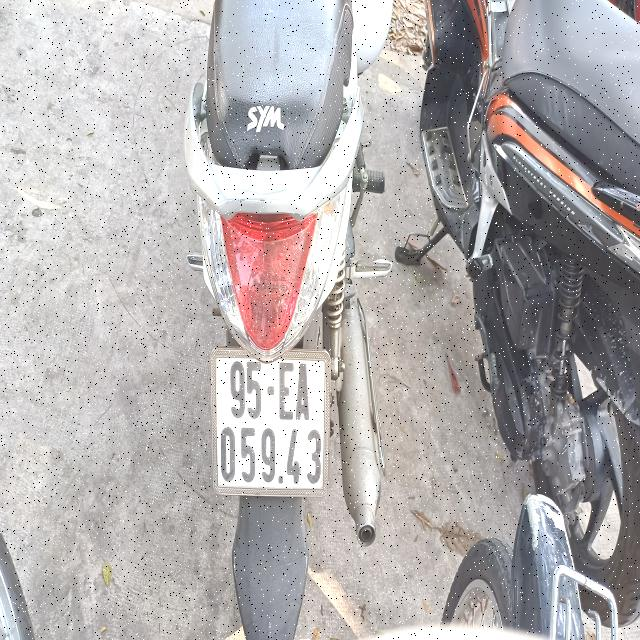0: (221, 426, 236, 482)
3: (306, 428, 322, 487)
4: (286, 426, 302, 486)
5: (240, 425, 257, 481), (247, 360, 262, 422)
9: (229, 360, 246, 420), (261, 428, 276, 482)
A: (296, 362, 311, 423)
E: (278, 360, 295, 423)
